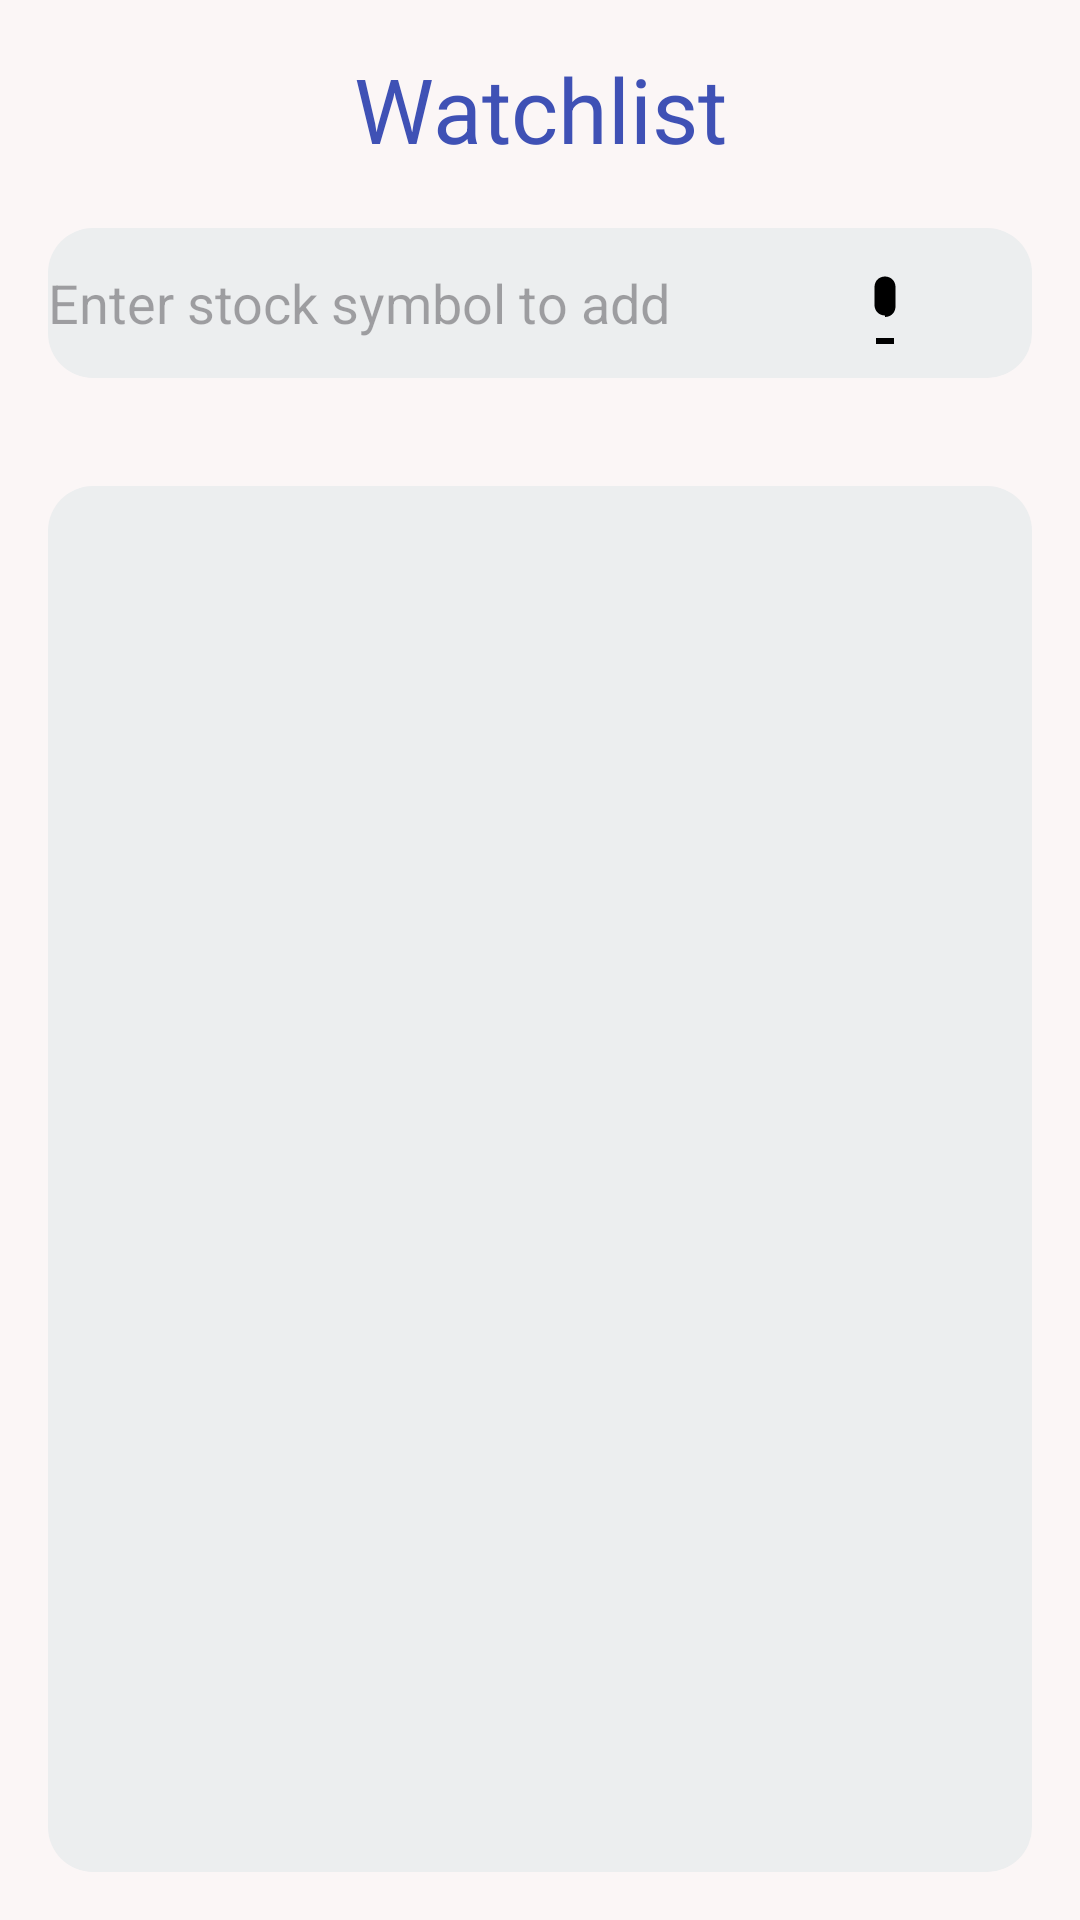

Icons on this 1080x1920 Android screen, each with its box as (x1, y1, x2, y2):
mic: (874, 276, 896, 344)
